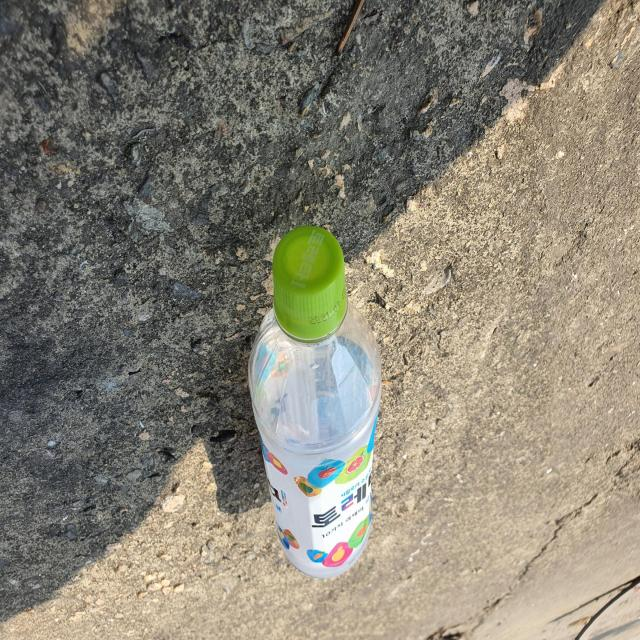plastic: (248, 225, 381, 579)
